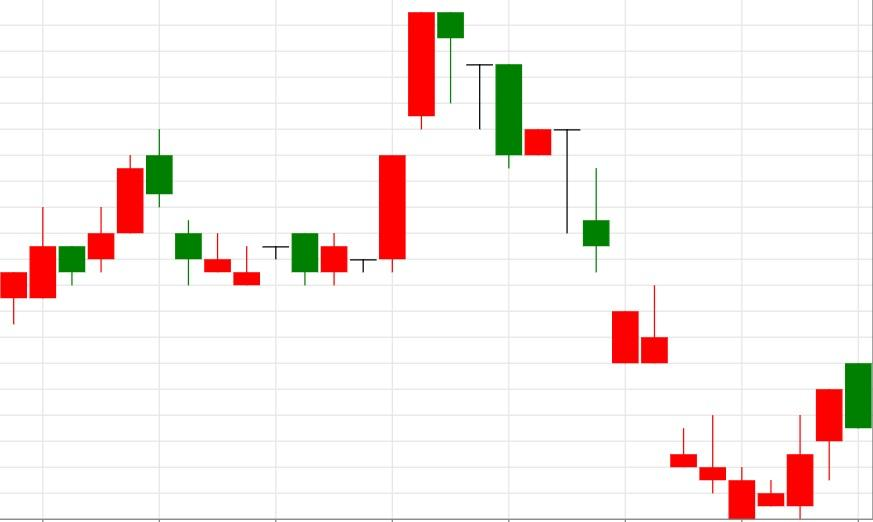hanging_man_fall: (291, 11, 464, 286)
